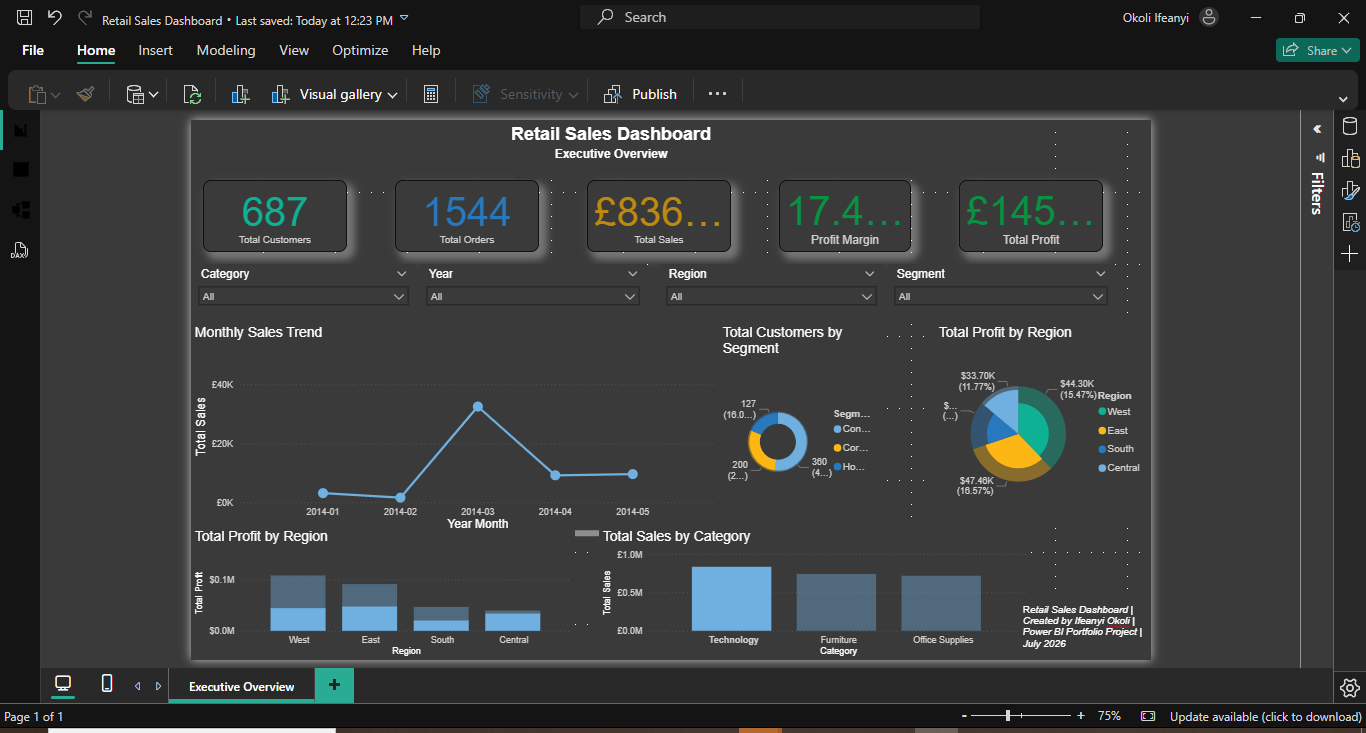

The page's visual inventory and layout, read from the dashboard file:
{"tool":"powerbi","page":{"name":"Executive Overview","canvas":[1280,720],"ordinal":0},"visuals":[{"type":"textbox","box":[16,0,1088,56],"z":0},{"type":"textbox","box":[16,32,1088,35],"z":1000},{"type":"card","fields":{"Values":["Measure Table.Total Customers"]},"box":[16,80,192,96],"z":2000},{"type":"card","fields":{"Values":["Measure Table.Total Orders"]},"box":[272,80,192,96],"z":3000},{"type":"card","fields":{"Values":["Measure Table.Profit Margin"]},"box":[784,80,176,96],"z":4000},{"type":"card","fields":{"Values":["Measure Table.Total Sales"]},"box":[528,80,192,96],"z":5000},{"type":"card","fields":{"Values":["Measure Table.Total Profit"]},"box":[1024,80,192,96],"z":6000},{"type":"lineChart","title":"Monthly Sales Trend","fields":{"Category":["Calendar.Year Month"],"Y":["Measure Table.Total Sales"]},"box":[0,272,704,288],"z":7000},{"type":"clusteredColumnChart","fields":{"Y":["Measure Table.Total Sales"],"Category":["sales.Category"]},"box":[544,544,576,176],"z":8000},{"type":"slicer","fields":{"Values":["Calendar.Year"]},"box":[304,192,304,80],"z":9000},{"type":"slicer","fields":{"Values":["sales.Region"]},"box":[624,192,300,80],"z":10000},{"type":"slicer","fields":{"Values":["sales.Segment"]},"box":[928,192,304,80],"z":11000},{"type":"slicer","fields":{"Values":["sales.Category"]},"box":[0,192,300,80],"z":12000},{"type":"clusteredColumnChart","fields":{"Category":["sales.Region"],"Y":["Measure Table.Total Profit"]},"box":[0,544,512,176],"z":13000},{"type":"textbox","box":[1104,640,176,80],"z":13001},{"type":"donutChart","fields":{"Category":["sales.Segment"],"Y":["Measure Table.Total Customers"]},"box":[704,272,220,272],"z":13002},{"type":"pieChart","fields":{"Category":["sales.Region"],"Y":["Measure Table.Total Profit"]},"box":[992,272,288,272],"z":13003}]}

Visuals, with their boxes on the page's 1280x720 design canvas (x1, y1, x2, y2). These are canvas units, not pixel positions in the 1366x733 screenshot, which may show the page scaled, cropped or inside an application window:
textbox: {"x1": 16, "y1": 0, "x2": 1104, "y2": 56}
textbox: {"x1": 16, "y1": 32, "x2": 1104, "y2": 67}
card - Measure Table.Total Customers: {"x1": 16, "y1": 80, "x2": 208, "y2": 176}
card - Measure Table.Total Orders: {"x1": 272, "y1": 80, "x2": 464, "y2": 176}
card - Measure Table.Profit Margin: {"x1": 784, "y1": 80, "x2": 960, "y2": 176}
card - Measure Table.Total Sales: {"x1": 528, "y1": 80, "x2": 720, "y2": 176}
card - Measure Table.Total Profit: {"x1": 1024, "y1": 80, "x2": 1216, "y2": 176}
"Monthly Sales Trend" lineChart: {"x1": 0, "y1": 272, "x2": 704, "y2": 560}
clusteredColumnChart - Measure Table.Total Sales x sales.Category: {"x1": 544, "y1": 544, "x2": 1120, "y2": 720}
slicer - Calendar.Year: {"x1": 304, "y1": 192, "x2": 608, "y2": 272}
slicer - sales.Region: {"x1": 624, "y1": 192, "x2": 924, "y2": 272}
slicer - sales.Segment: {"x1": 928, "y1": 192, "x2": 1232, "y2": 272}
slicer - sales.Category: {"x1": 0, "y1": 192, "x2": 300, "y2": 272}
clusteredColumnChart - sales.Region x Measure Table.Total Profit: {"x1": 0, "y1": 544, "x2": 512, "y2": 720}
textbox: {"x1": 1104, "y1": 640, "x2": 1280, "y2": 720}
donutChart - sales.Segment x Measure Table.Total Customers: {"x1": 704, "y1": 272, "x2": 924, "y2": 544}
pieChart - sales.Region x Measure Table.Total Profit: {"x1": 992, "y1": 272, "x2": 1280, "y2": 544}
